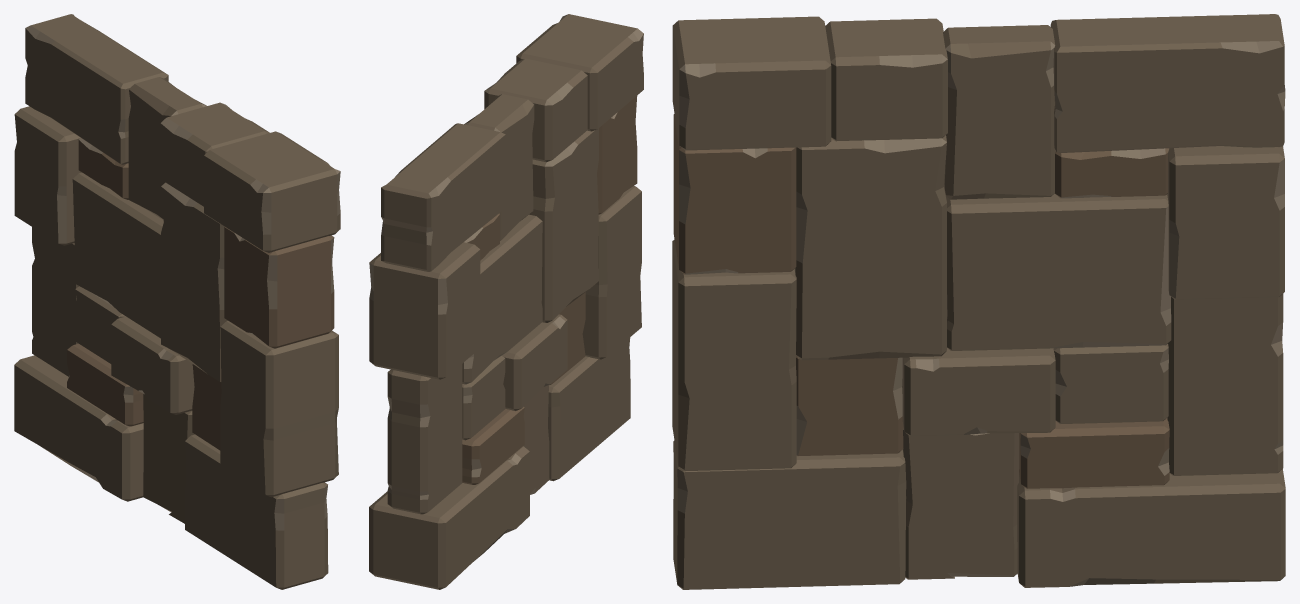
The model's file is entrada_wall_west_2_lev3.glb.
3 views of the same model, side by side, from view 1: azimuth 30°, elevation 25°; view 2: azimuth 150°, elevation 25°; view 3: azimuth 270°, elevation 25° (orthographic). The views are drawn at different scales.
Visible parts, largest first — view 1: entrada_wall_west_2_lev3; view 2: entrada_wall_west_2_lev3; view 3: entrada_wall_west_2_lev3.
Part boxes in pixels (x1=…): entrada_wall_west_2_lev3: x1=14, y1=14, x2=340, y2=589; entrada_wall_west_2_lev3: x1=369, y1=14, x2=643, y2=589; entrada_wall_west_2_lev3: x1=672, y1=14, x2=1285, y2=589.
Bounding box in the file's own units: 1.6 × 6 × 6.24.
